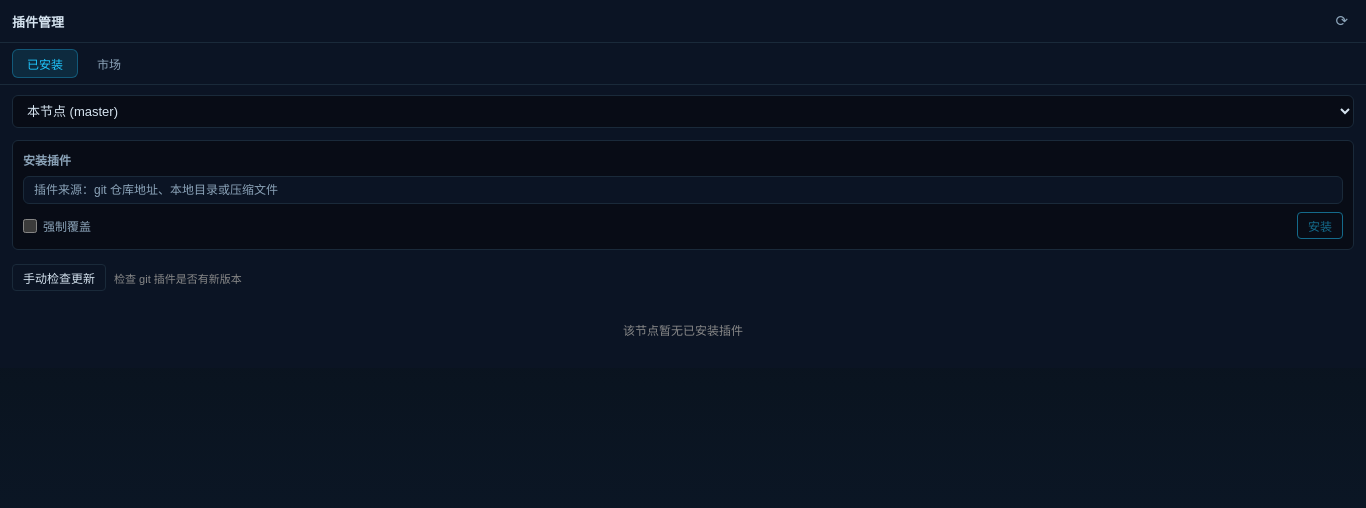
PluginSidebar › 市场 tab：切换后加载市场插件并渲染
The width and height of the screenshot is (1366, 508).
// 切换到市场 tab
Click the button "市场": (109, 64) [82, 49, 136, 78]
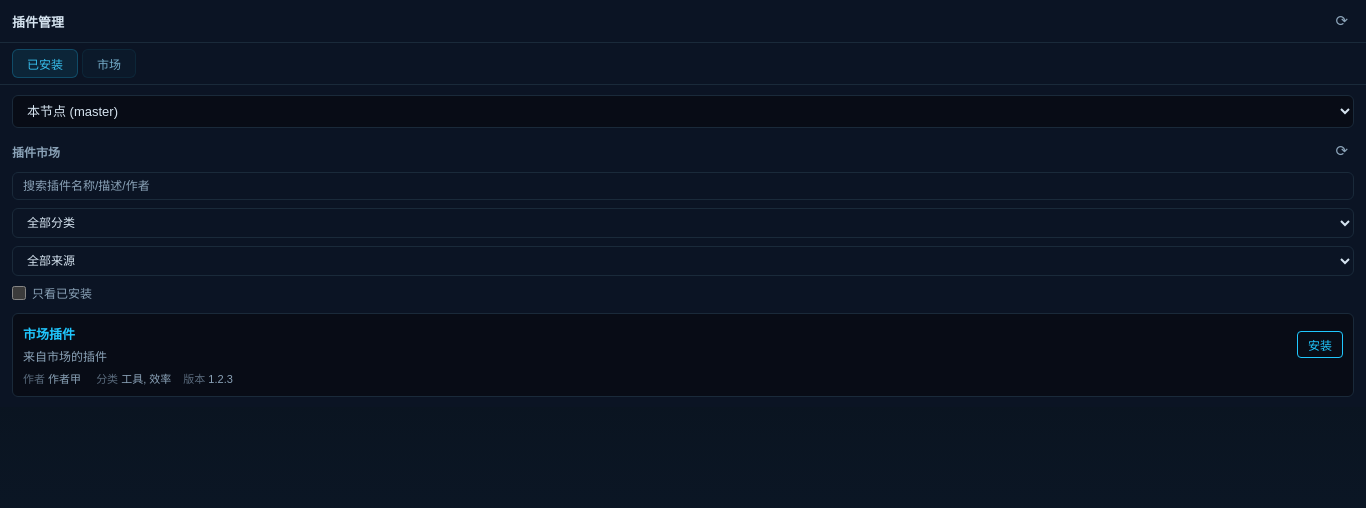
Check: the element that starts with "插件市场" is shown, box [12, 140, 1354, 397]
Check: the text "市场插件" is shown, box [23, 327, 75, 342]
Check: the text "来自市场的插件" is shown, box [23, 349, 107, 366]
